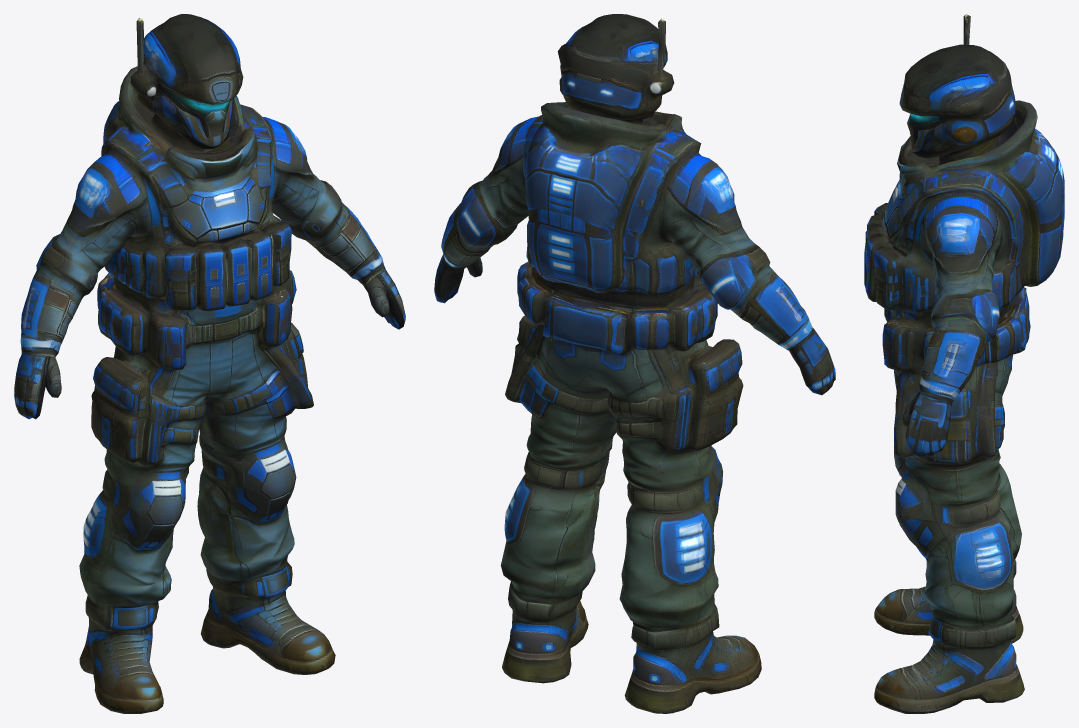
The model's file is obsidianSentinelPlayerSystemsSpecialist.glb.
3 views of the same model, side by side, from view 1: azimuth 30°, elevation 25°; view 2: azimuth 150°, elevation 25°; view 3: azimuth 270°, elevation 25° (orthographic). The views are drawn at different scales.
Parts seen in each view (by area): view 1: Mesh_0; view 2: Mesh_0; view 3: Mesh_0.
Boxes of the visible parts, x1,y1,x2,y2 form: Mesh_0: [14, 14, 405, 713]; Mesh_0: [434, 14, 835, 713]; Mesh_0: [864, 14, 1064, 713].
Size of the model in its own units: 1.1 by 1.8 by 0.5212.
1 material, 1 textured.
